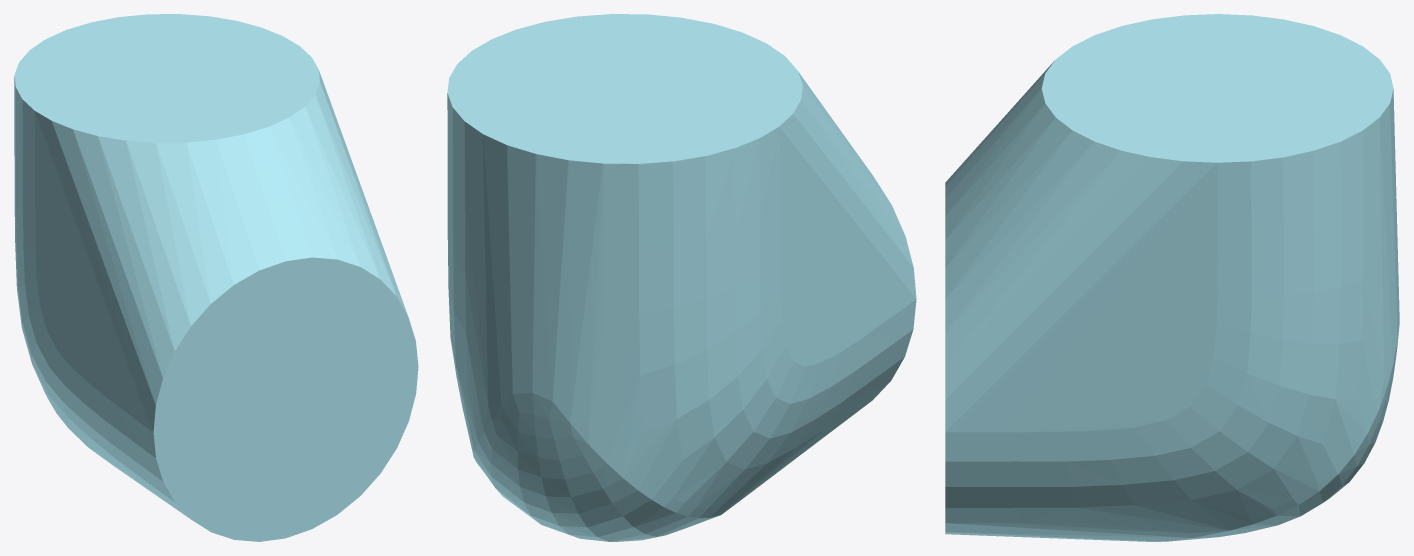
3 renders of one model, left to right at view 1: azimuth 30°, elevation 25°; view 2: azimuth 150°, elevation 25°; view 3: azimuth 270°, elevation 25°, orthographic. The views are drawn at different scales.
Visible parts, largest first — view 1: UR20Link4; view 2: UR20Link4; view 3: UR20Link4.
Part boxes in pixels (x1=…): UR20Link4: x1=14, y1=14, x2=418, y2=541; UR20Link4: x1=447, y1=14, x2=916, y2=541; UR20Link4: x1=945, y1=14, x2=1399, y2=541.
Size of the model in its own units: 0.1001 by 0.1292 by 0.1371.
